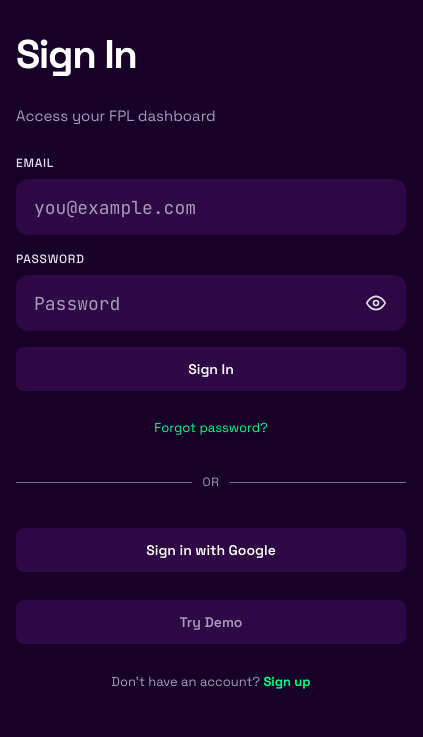
Scenario: SignInScreen › shows error message on failed sign in
The image size is (423, 737).
Type "user@test.com" into the field labelled "Email".
click(211, 207); type("user@test.com")  # box [16,179,406,235]
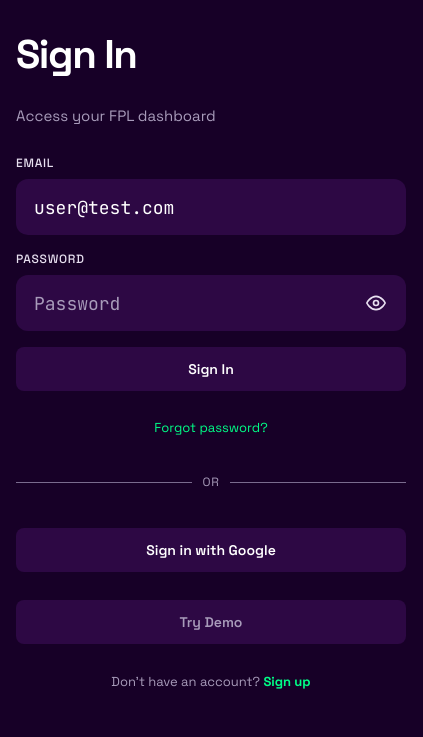
Type "wrongpassword" into the password field with placeholder "Password".
click(211, 303); type("wrongpassword")  # box [16,275,406,331]
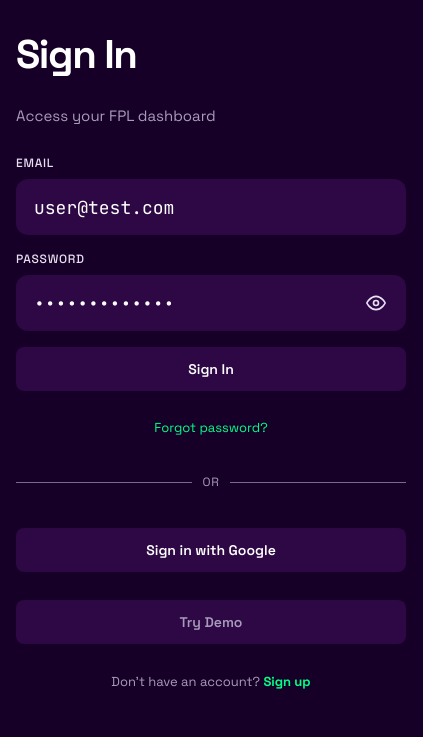
Click the button "Sign In".
click(211, 369)  # box [16,347,406,391]
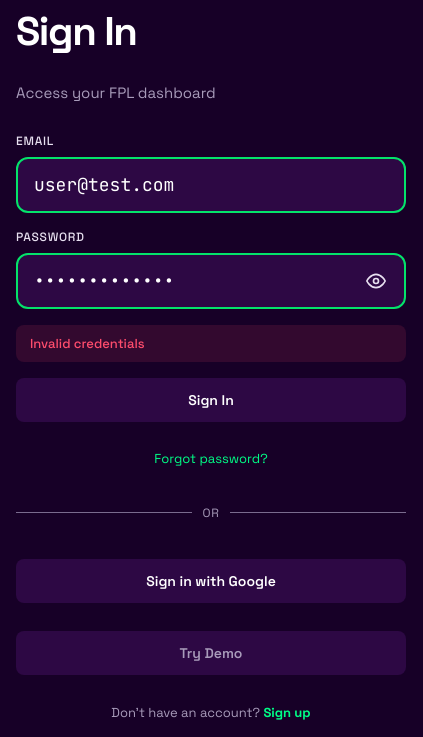
Result: the text "Invalid credentials" is shown at [16,324,406,362]
